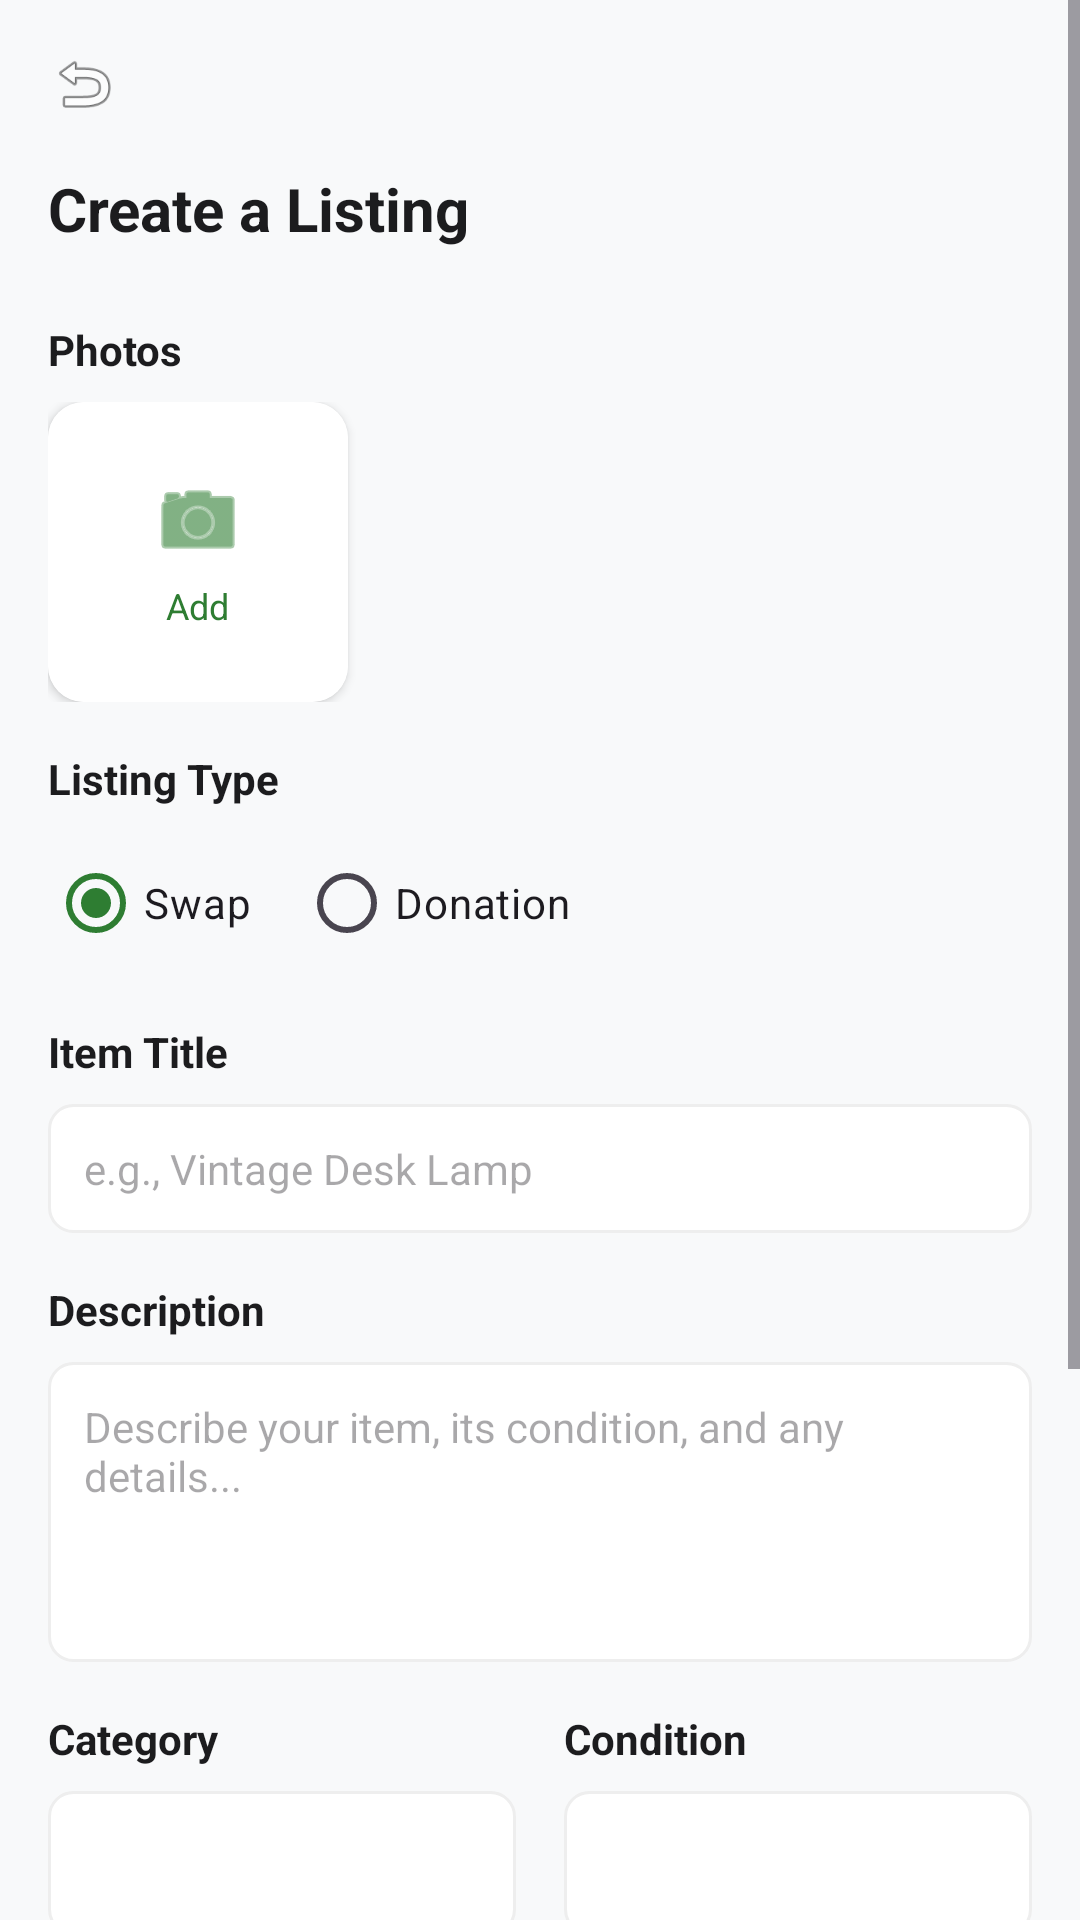

Icon bounding boxes for this 1080×1920 phone screenshot, format (x1, y1, x2, y2):
Back: (59, 61, 111, 108)
